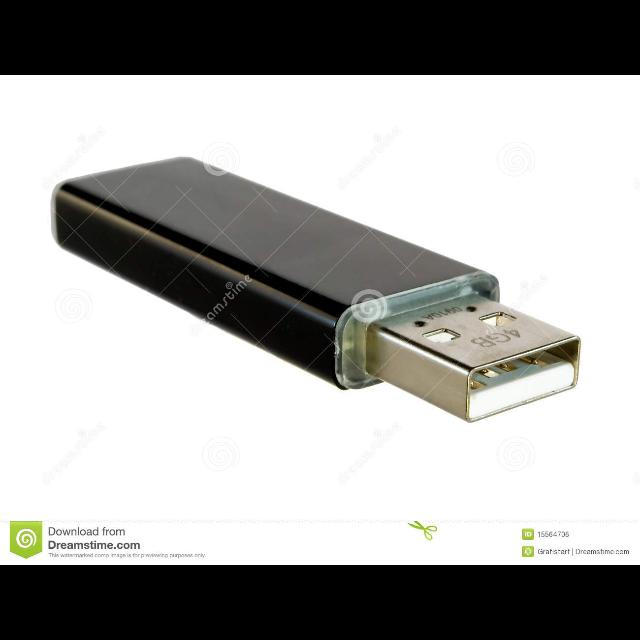USB-Flash-Drive: (48, 152, 582, 424)
